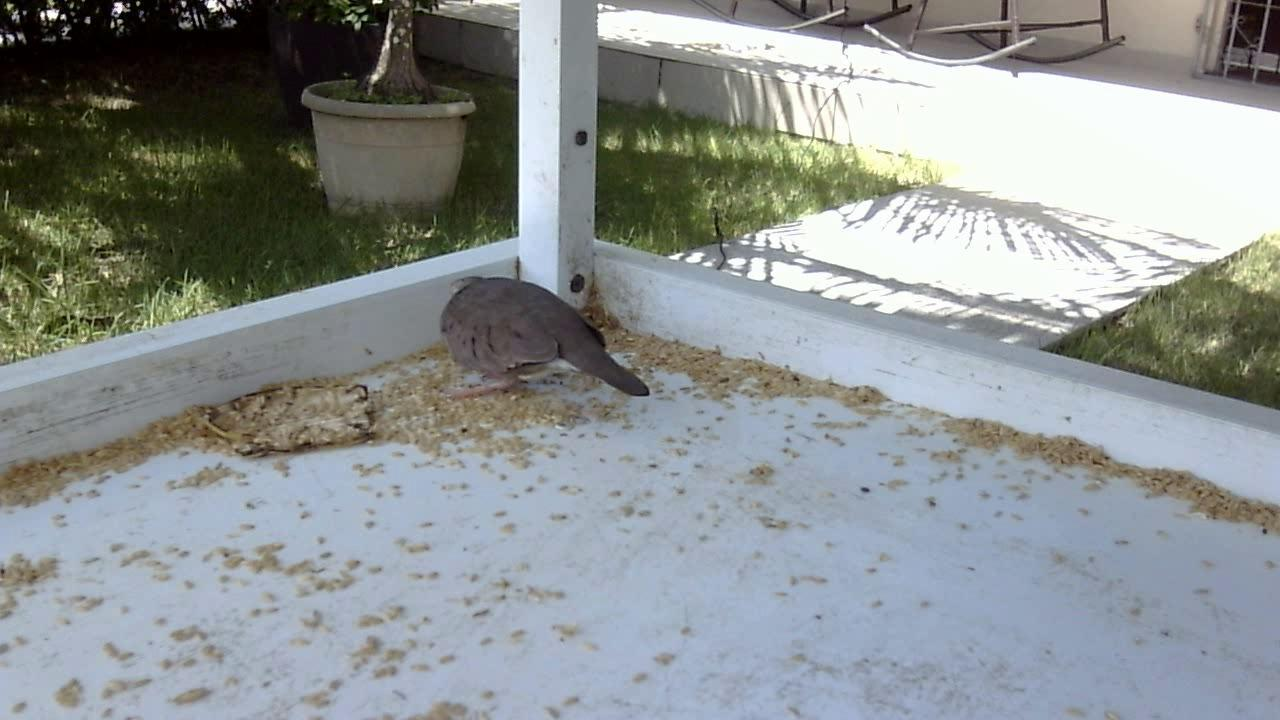rolinha: (433, 270, 655, 411)
